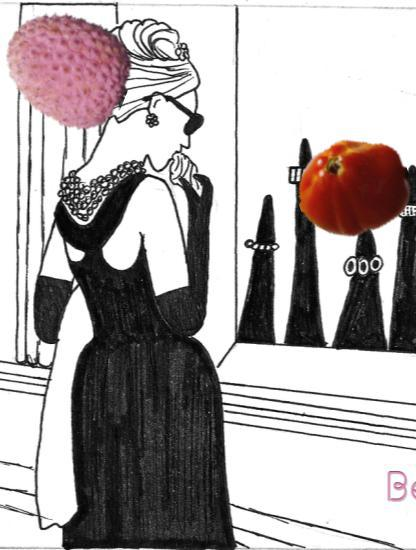Lychee: (2, 3, 132, 133)
Tomato: (296, 130, 410, 244)
